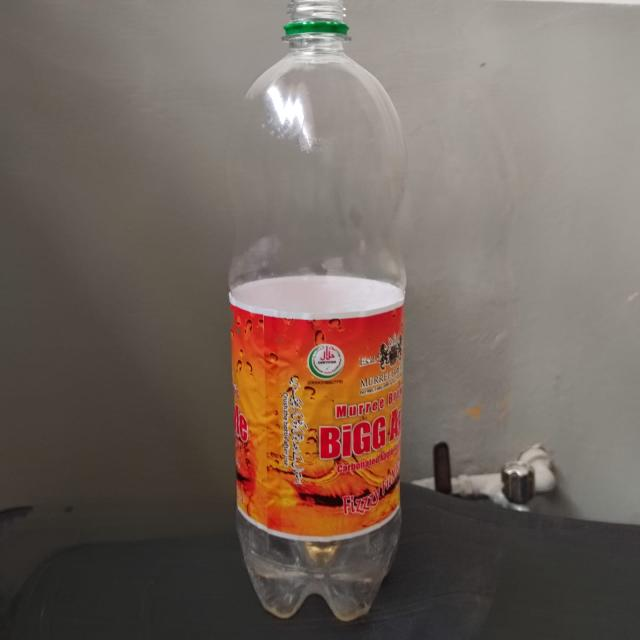bottle: (234, 0, 402, 616)
label: (236, 312, 404, 542)
